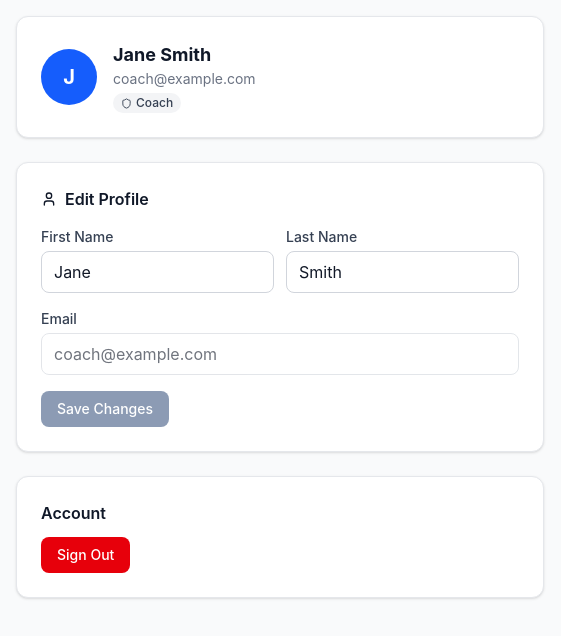
Test: ProfilePage — error visibility on blur › shows "Last name is required" after clearing last name and blurring
Clear the field labelled "Last Name" at (402, 272), box [286, 251, 519, 293]
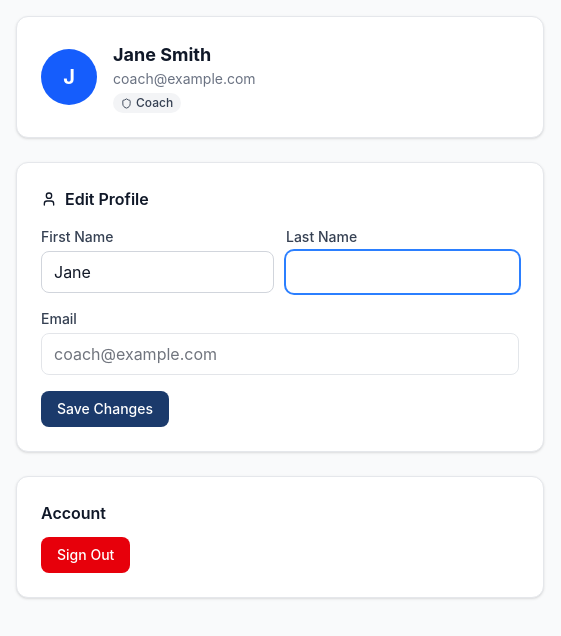
Leave the field labelled "Last Name", box [286, 251, 519, 293]
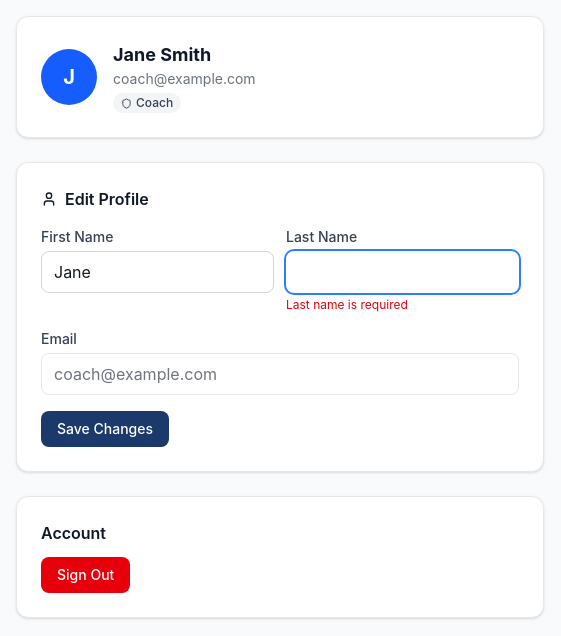
Expected: the text "Last name is required" is shown, [286, 297, 408, 312]
